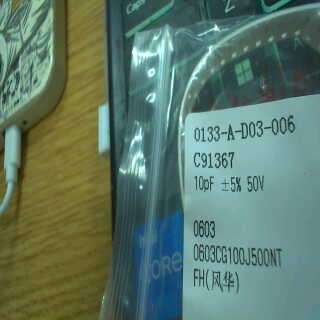10pF: (189, 170, 219, 198)
